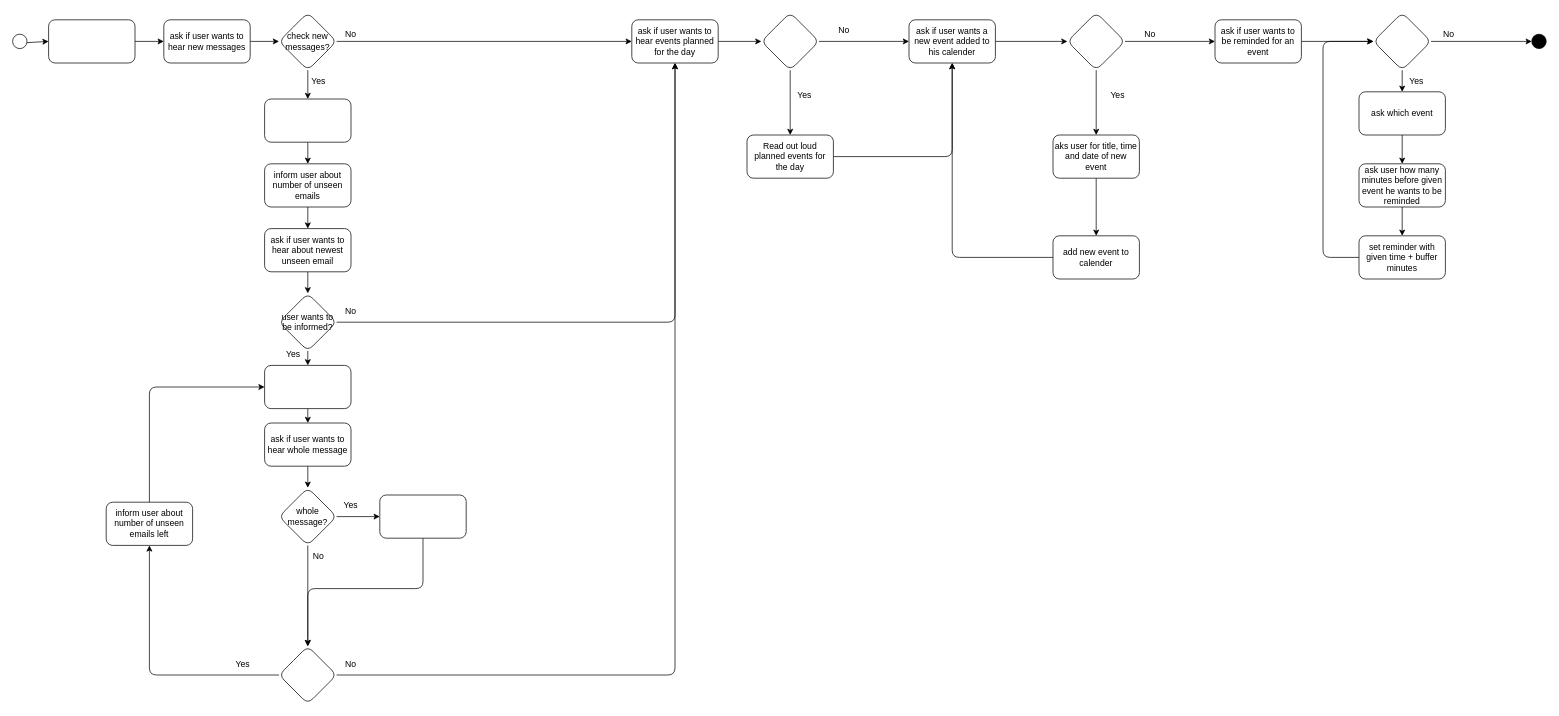
Some shapes in this 1559 by 716 pixel diagram are drawn without their labels. The shapes that lost their labels are listed below. From the top down, each one's centre as x and y in pixels, then its label:
At (x=91, y=41): "State machine in Event Planning Use Case".
At (x=790, y=41): "Read out events planned?".
At (x=1096, y=41): "new event?".
At (x=1402, y=41): "new reminder?".
At (x=307, y=120): "use email APi to get unseen emails".
At (x=307, y=387): "Read out newest sender info and email subject".
At (x=422, y=516): "give user whole message".
At (x=307, y=674): "another one?".
